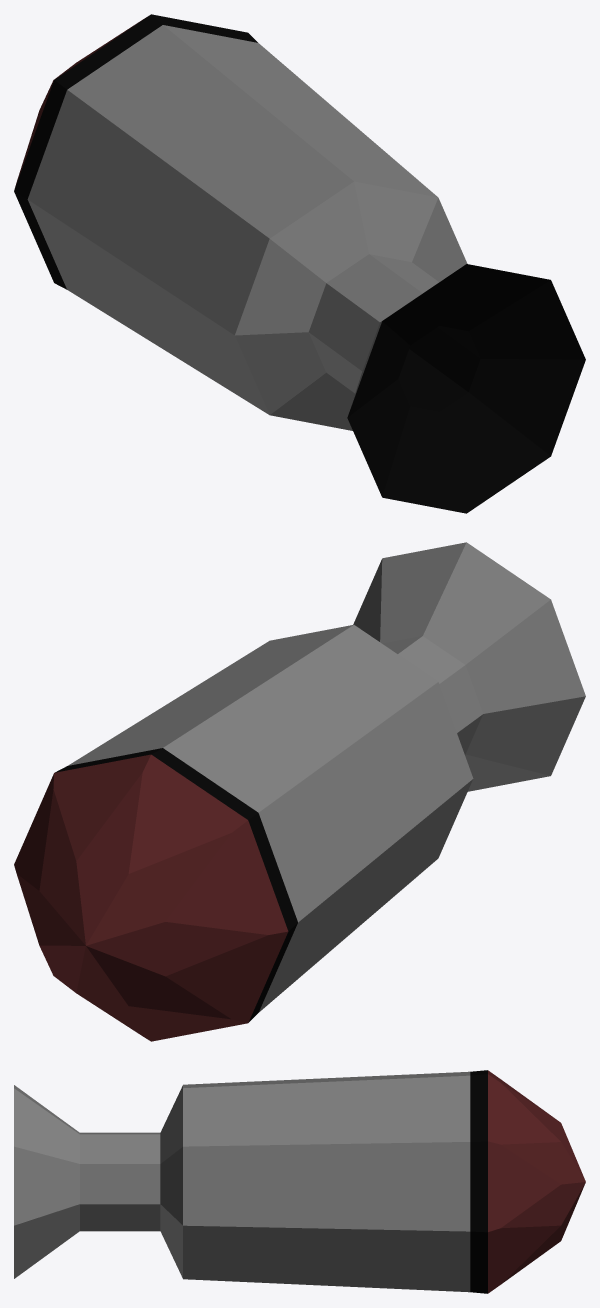
File: rocket.glb
3 views of the same model, one above another, from view 1: azimuth 30°, elevation 25°; view 2: azimuth 150°, elevation 25°; view 3: azimuth 270°, elevation 25° (orthographic). The views are drawn at different scales.
Parts seen in each view (by area): view 1: Rocket; view 2: Rocket; view 3: Rocket.
Boxes of the visible parts, x1=… form: Rocket: x1=14, y1=14, x2=585, y2=513; Rocket: x1=14, y1=542, x2=585, y2=1041; Rocket: x1=14, y1=1070, x2=585, y2=1293.
Size of the model in its own units: 0.3 by 0.3 by 0.7208.
